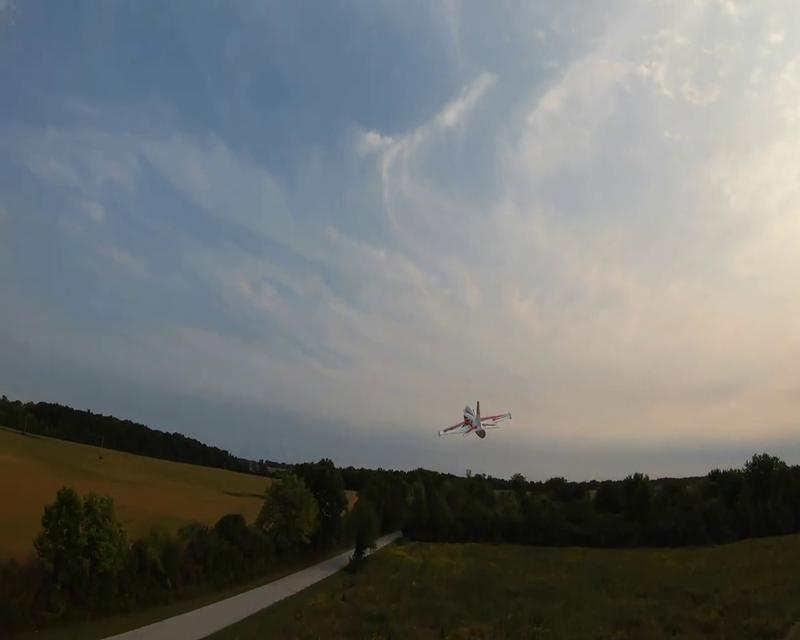UAV: (436, 399, 512, 440)
